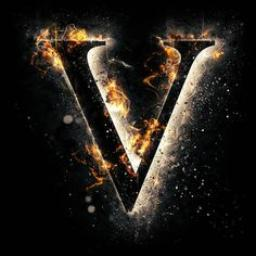v: (41, 34, 221, 218)
